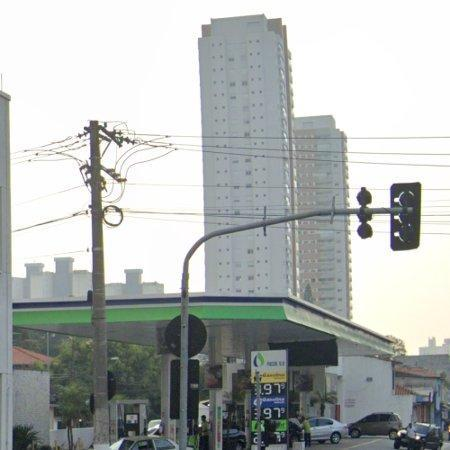traffic lights: (390, 183, 422, 252)
